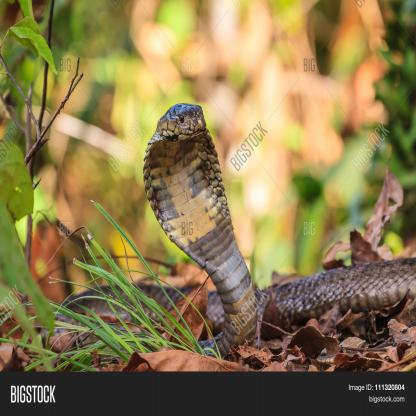Snake: (140, 98, 268, 332)
